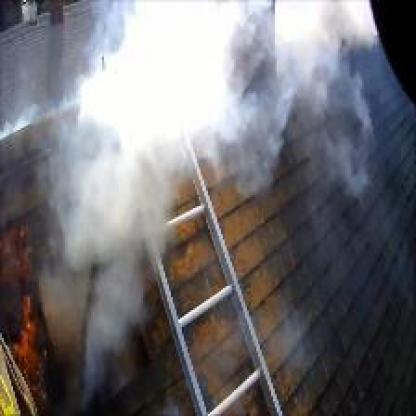other: (9, 299, 50, 368)
smoke: (50, 155, 162, 261), (265, 3, 361, 95)
